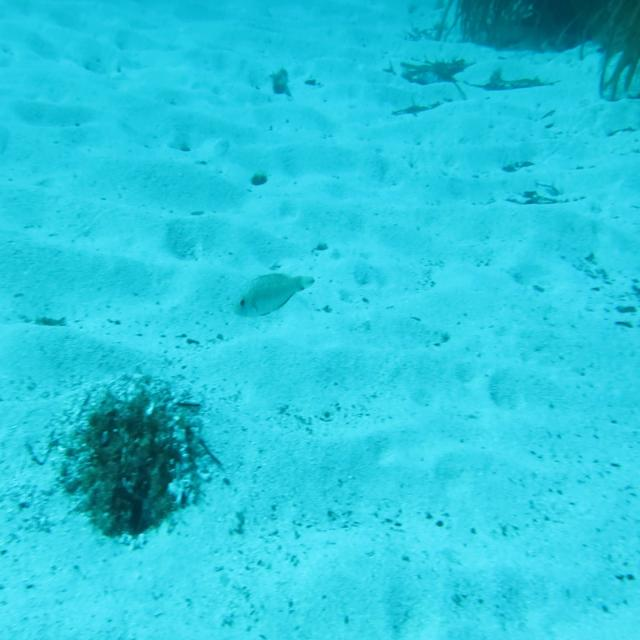BN: (232, 262, 317, 330)
core_nest: (96, 414, 168, 457)
nest: (53, 376, 218, 556)
vegetation: (443, 0, 640, 82)
